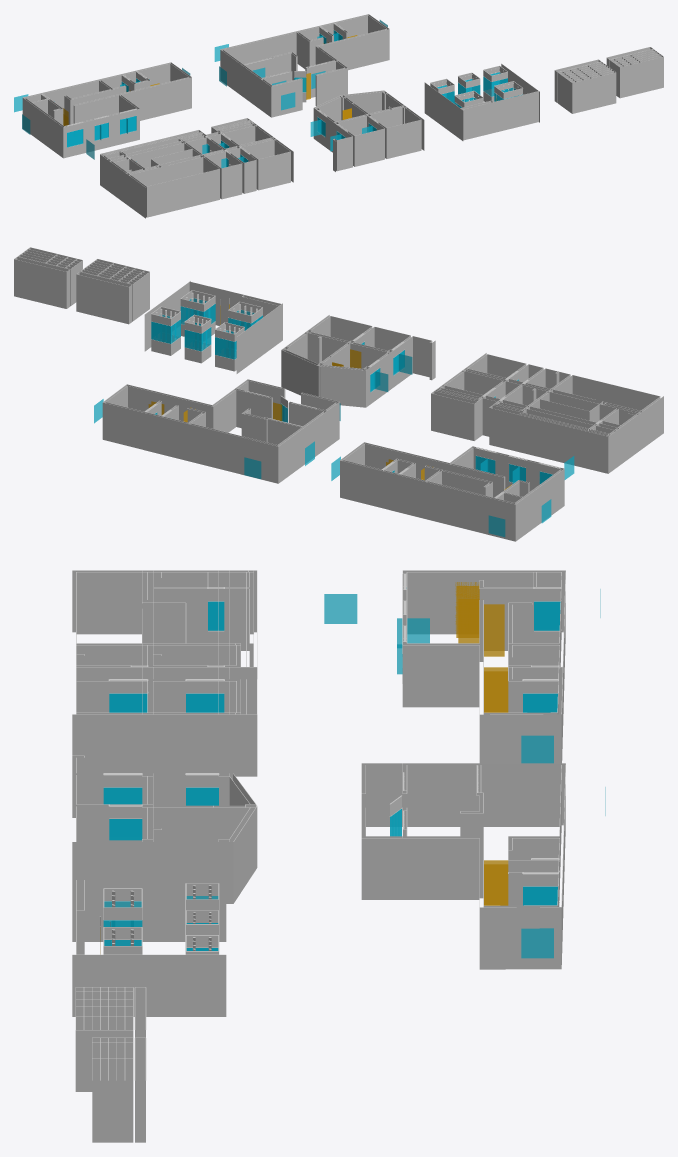
File: 47d359dd-5a89-4fd5-b07e-4c7ef39e4d62_no_roof.glb
3 renders of one model, top to bottom at view 1: azimuth 30°, elevation 25°; view 2: azimuth 150°, elevation 25°; view 3: azimuth 270°, elevation 25°, orthographic. The views are drawn at different scales.
Visible parts, largest first — view 1: walls, windows, doors; view 2: walls, windows, doors; view 3: walls, windows, doors.
Boxes of the visible parts, <box> form: walls: <box>22,14,663,218</box>; windows: <box>14,20,522,168</box>; doors: <box>63,35,496,125</box>; walls: <box>14,247,663,541</box>; windows: <box>94,298,574,537</box>; doors: <box>148,304,511,489</box>; walls: <box>72,570,565,1142</box>; windows: <box>103,588,605,958</box>; doors: <box>100,582,508,954</box>.
Size of the model in its own units: 45.02 by 2.5 by 19.47.
